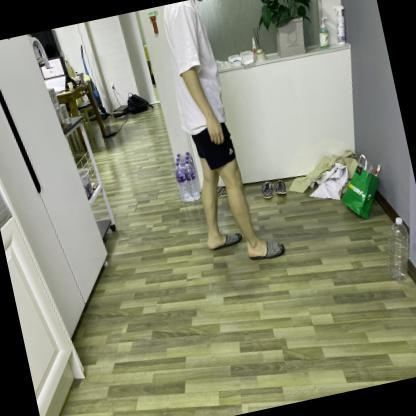no_safety-shoe: (241, 227, 295, 268), (195, 222, 245, 259)
